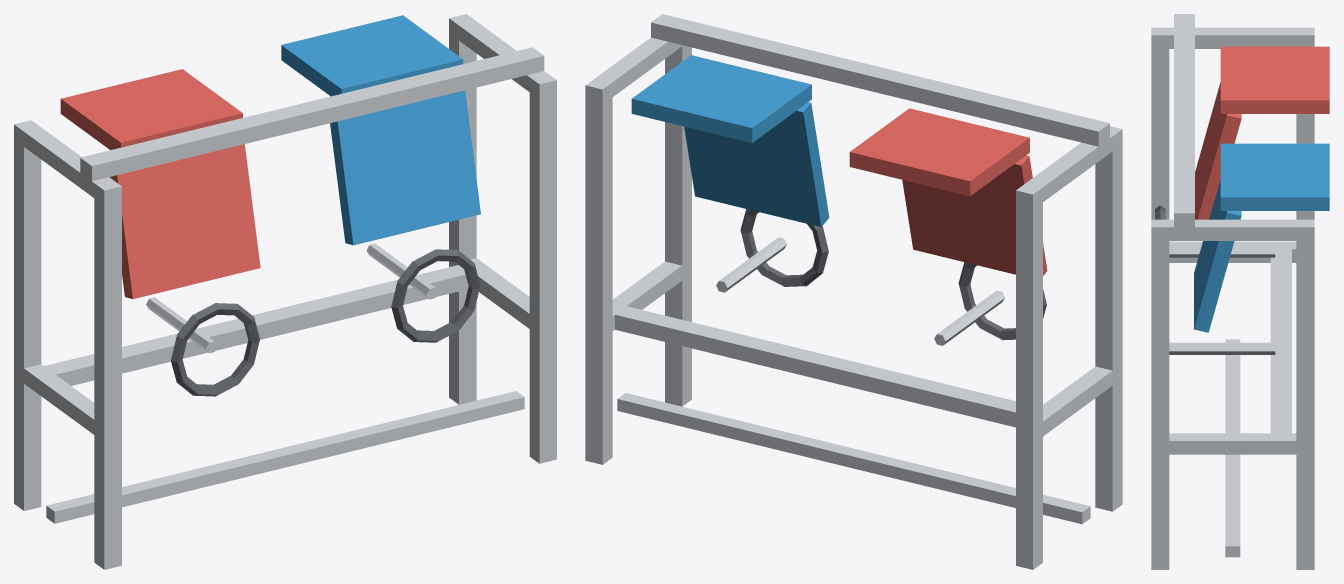
File: go-kart-track-and-pit-lane-spare-seat-and-wheel-rack-be9a9f56__34329.glb
3 renders of one model, left to right at view 1: azimuth 30°, elevation 25°; view 2: azimuth 150°, elevation 25°; view 3: azimuth 270°, elevation 25°, orthographic. The views are drawn at different scales.
Parts seen in each view (by area): view 1: spare-seat-and-wheel-rack-steel, spare-seat-and-wheel-rack-azure, spare-seat-and-wheel-rack-red, spare-seat-and-wheel-rack-charcoal; view 2: spare-seat-and-wheel-rack-steel, spare-seat-and-wheel-rack-azure, spare-seat-and-wheel-rack-red, spare-seat-and-wheel-rack-charcoal; view 3: spare-seat-and-wheel-rack-steel, spare-seat-and-wheel-rack-azure, spare-seat-and-wheel-rack-red.
Boxes of the visible parts, <box> form: spare-seat-and-wheel-rack-steel: <box>14,14,556,569</box>; spare-seat-and-wheel-rack-azure: <box>281,15,480,245</box>; spare-seat-and-wheel-rack-red: <box>60,69,260,298</box>; spare-seat-and-wheel-rack-charcoal: <box>171,249,480,396</box>; spare-seat-and-wheel-rack-steel: <box>585,14,1122,569</box>; spare-seat-and-wheel-rack-azure: <box>631,55,829,226</box>; spare-seat-and-wheel-rack-red: <box>849,108,1047,275</box>; spare-seat-and-wheel-rack-charcoal: <box>740,209,1046,340</box>; spare-seat-and-wheel-rack-steel: <box>1151,14,1314,569</box>; spare-seat-and-wheel-rack-azure: <box>1194,143,1329,332</box>; spare-seat-and-wheel-rack-red: <box>1195,46,1329,219</box>.
Bounding box in the file's own units: 1.62 × 1.3 × 0.59.
